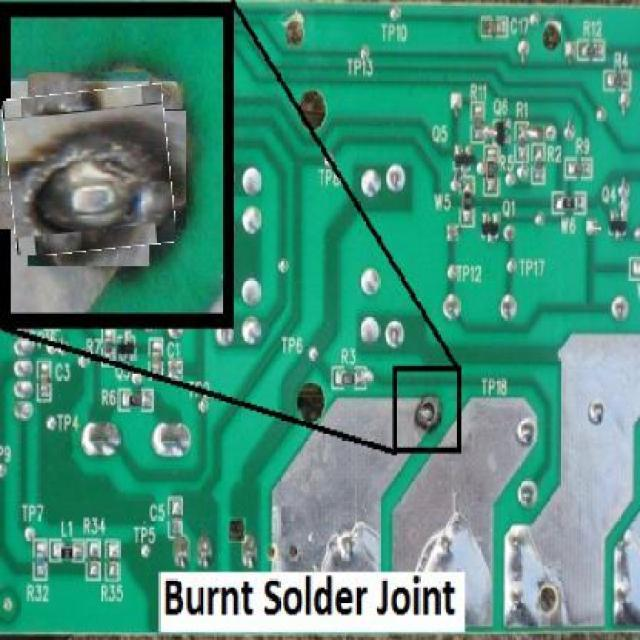Burn: (5, 87, 173, 253)
